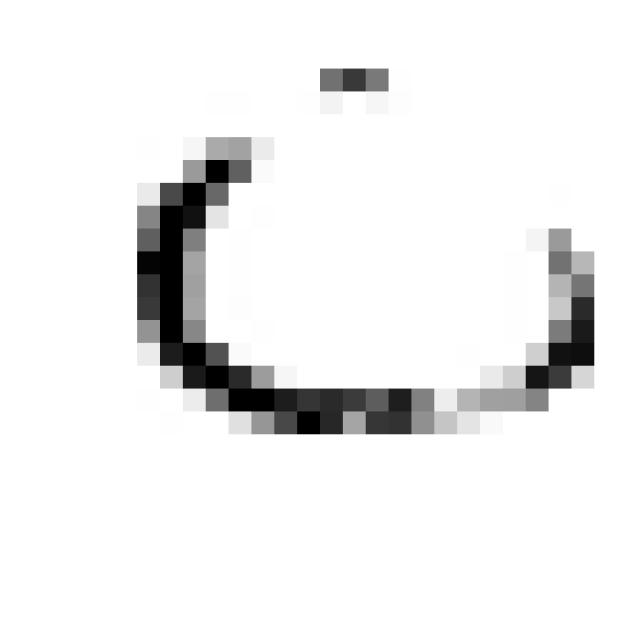5 -five-: (110, 34, 612, 458)
